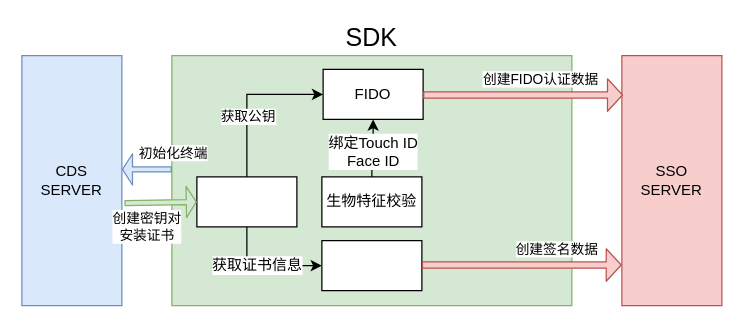
Some shapes in this 744 by 328 pixel diagram are drawn without their labels. The centre of each missing label's shape, as x and y in pixels:
CAS: pixel 371 265
软介质: pixel 246 201
